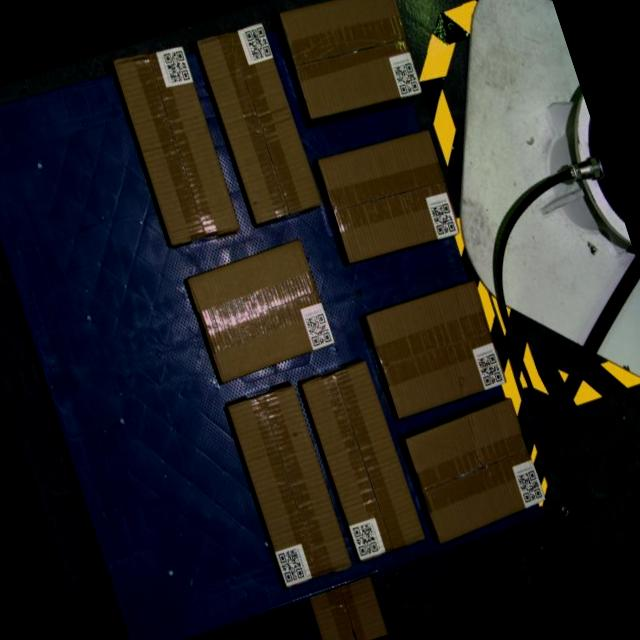box: (111, 38, 242, 250), (197, 20, 323, 226), (301, 360, 427, 564), (227, 385, 353, 588), (186, 237, 337, 383), (403, 396, 549, 544), (317, 125, 463, 269), (366, 280, 509, 420), (277, 0, 425, 127)
